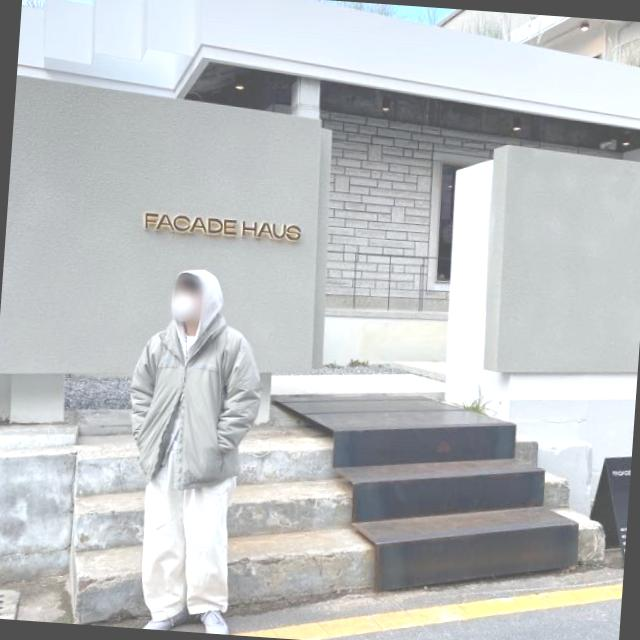cottonpants: (137, 438, 237, 628)
padding: (128, 312, 272, 494)
